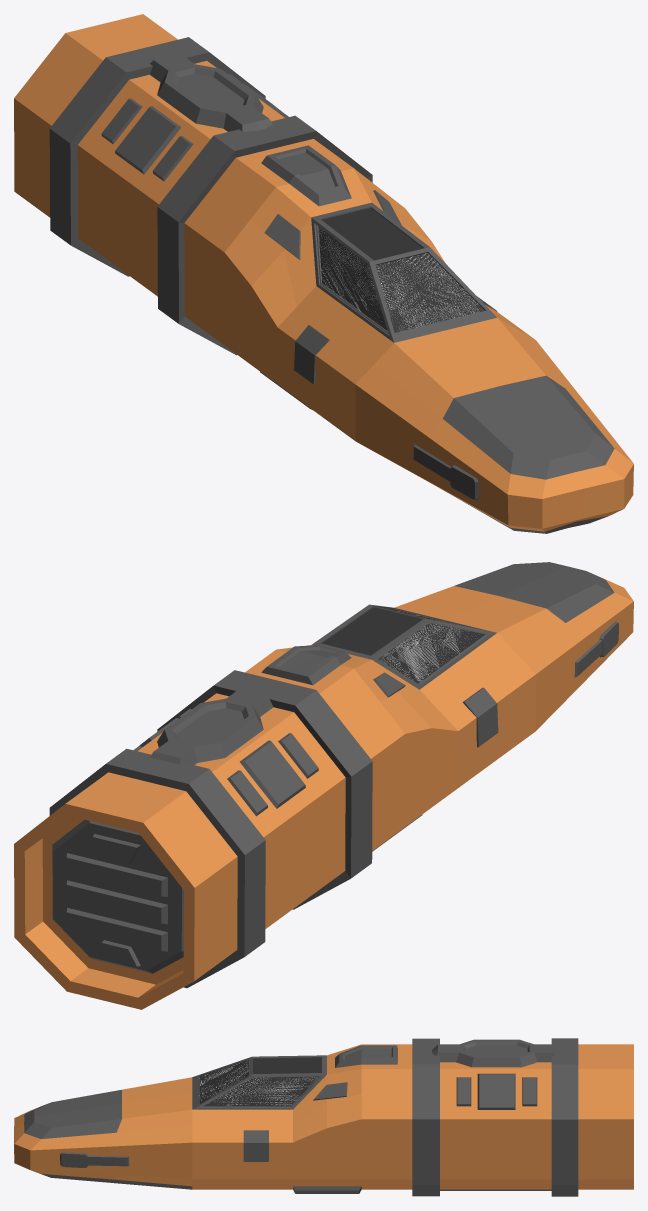
The model's file is SpaceFighter_Fuselage.fbx.
3 views of the same model, one above another, from view 1: azimuth 30°, elevation 25°; view 2: azimuth 150°, elevation 25°; view 3: azimuth 270°, elevation 25° (orthographic). The views are drawn at different scales.
Parts seen in each view (by area): view 1: Spacefighter_Fuselage, Spacefighter_Canopy; view 2: Spacefighter_Fuselage, Spacefighter_Canopy; view 3: Spacefighter_Fuselage, Spacefighter_Canopy.
Boxes of the visible parts, <box> form: Spacefighter_Fuselage: <box>14,14,633,533</box>; Spacefighter_Canopy: <box>311,202,496,342</box>; Spacefighter_Fuselage: <box>14,562,633,1009</box>; Spacefighter_Canopy: <box>311,604,496,689</box>; Spacefighter_Fuselage: <box>14,1038,633,1196</box>; Spacefighter_Canopy: <box>192,1055,326,1109</box>.
Bounding box in the file's own units: 280 × 287 × 1190.
